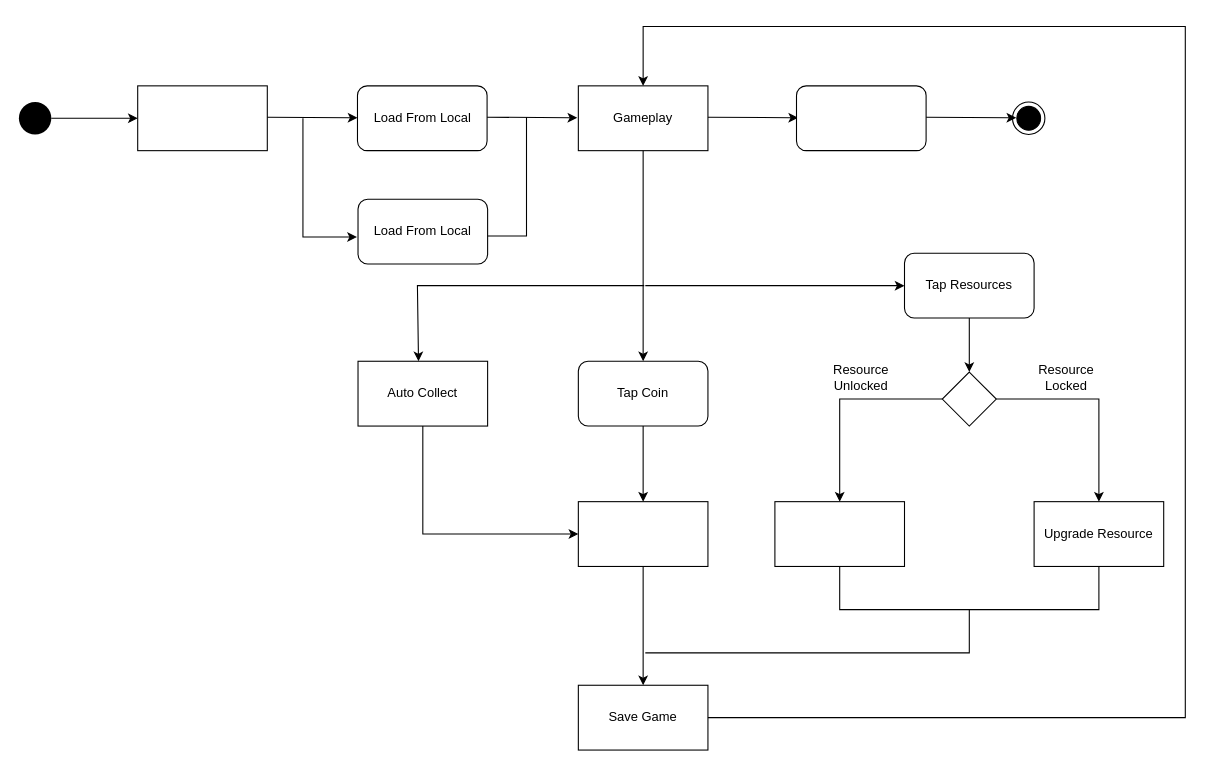
Some shapes in this 1213 by 769 pixel diagram are drawn without their labels. Here are the shapes that lost their labels. From the top down, the box of each, then its label:
(137, 85, 267, 151): Load Screen
(795, 85, 926, 151): Exit Game
(577, 501, 708, 566): Add Gold
(774, 501, 905, 566): Unlock Resource
